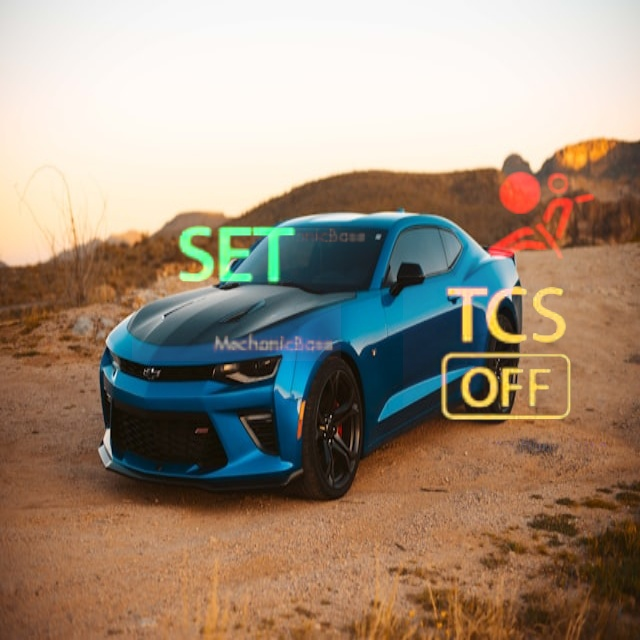symbol: (403, 250, 615, 462), (132, 152, 341, 361), (175, 54, 373, 252), (467, 141, 619, 293)
